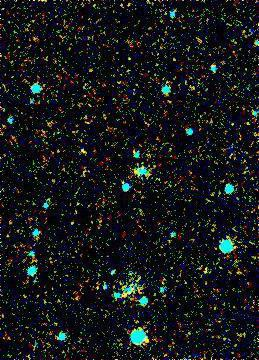star: (188, 27, 218, 57)
